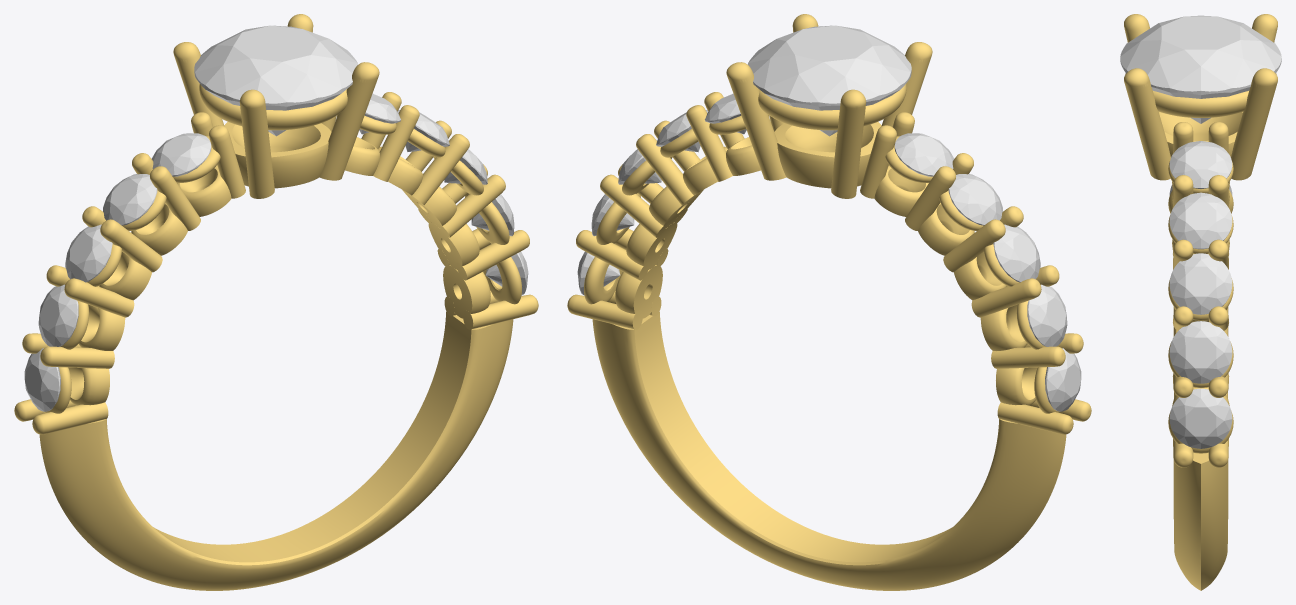
Rendered from diamond-round-yellowgold-4prong-knifeedge-11stone.glb.
The picture shows the model from 3 angles, left to right: view 1: azimuth 30°, elevation 25°; view 2: azimuth 150°, elevation 25°; view 3: azimuth 270°, elevation 25°; orthographic projection.
Visible parts, largest first — view 1: metal, stone, side.001, side.002, side.006, side, side.007, side.003, side.004; view 2: metal, stone, side.001, side.002, side.006, side, side.007, side.003, side.004; view 3: metal, stone, side.008, side.005, side.009, side.004, side.003.
Part boxes in pixels (<box>): metal: <box>14,14,538,590</box>; stone: <box>194,25,358,136</box>; side.001: <box>103,174,157,225</box>; side.002: <box>65,224,112,282</box>; side.006: <box>38,284,78,346</box>; side: <box>152,133,211,176</box>; side.007: <box>24,348,60,411</box>; side.003: <box>359,93,400,134</box>; side.004: <box>397,110,449,151</box>; metal: <box>567,14,1091,590</box>; stone: <box>747,25,911,136</box>; side.001: <box>948,174,1002,225</box>; side.002: <box>993,224,1040,282</box>; side.006: <box>1027,284,1067,346</box>; side: <box>894,133,953,176</box>; side.007: <box>1045,348,1081,411</box>; side.003: <box>705,93,746,134</box>; side.004: <box>656,110,708,152</box>; metal: <box>1124,14,1277,590</box>; stone: <box>1120,15,1281,123</box>; side.008: <box>1169,321,1232,383</box>; side.005: <box>1169,253,1232,314</box>; side.009: <box>1169,388,1232,448</box>; side.004: <box>1169,192,1232,249</box>; side.003: <box>1169,141,1232,188</box>.
Bounding box in the file's own units: 22.68 × 23.31 × 6.44.
